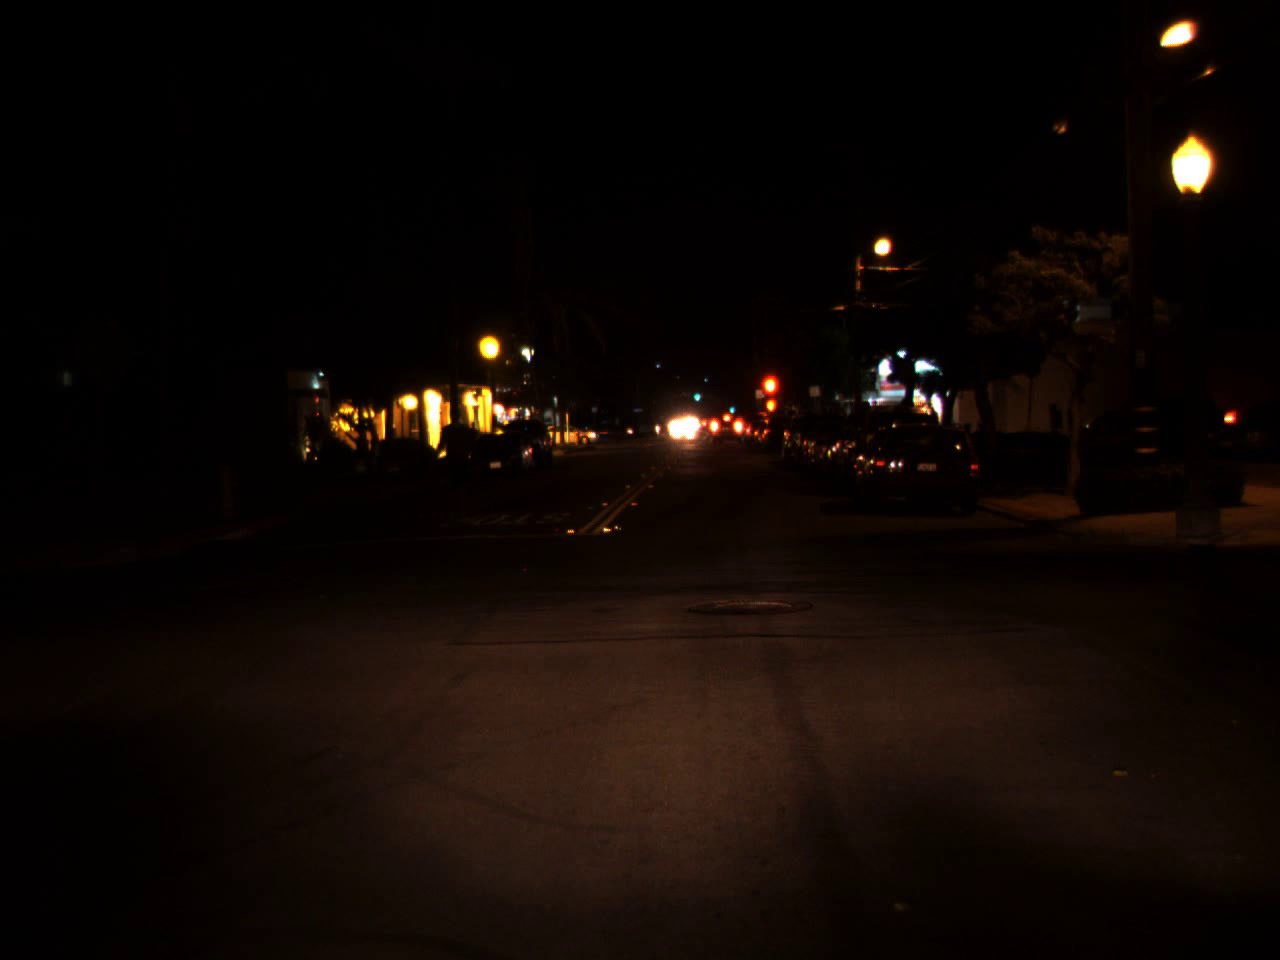go: (692, 387, 701, 402), (728, 402, 735, 414)
stop: (758, 371, 782, 425)
